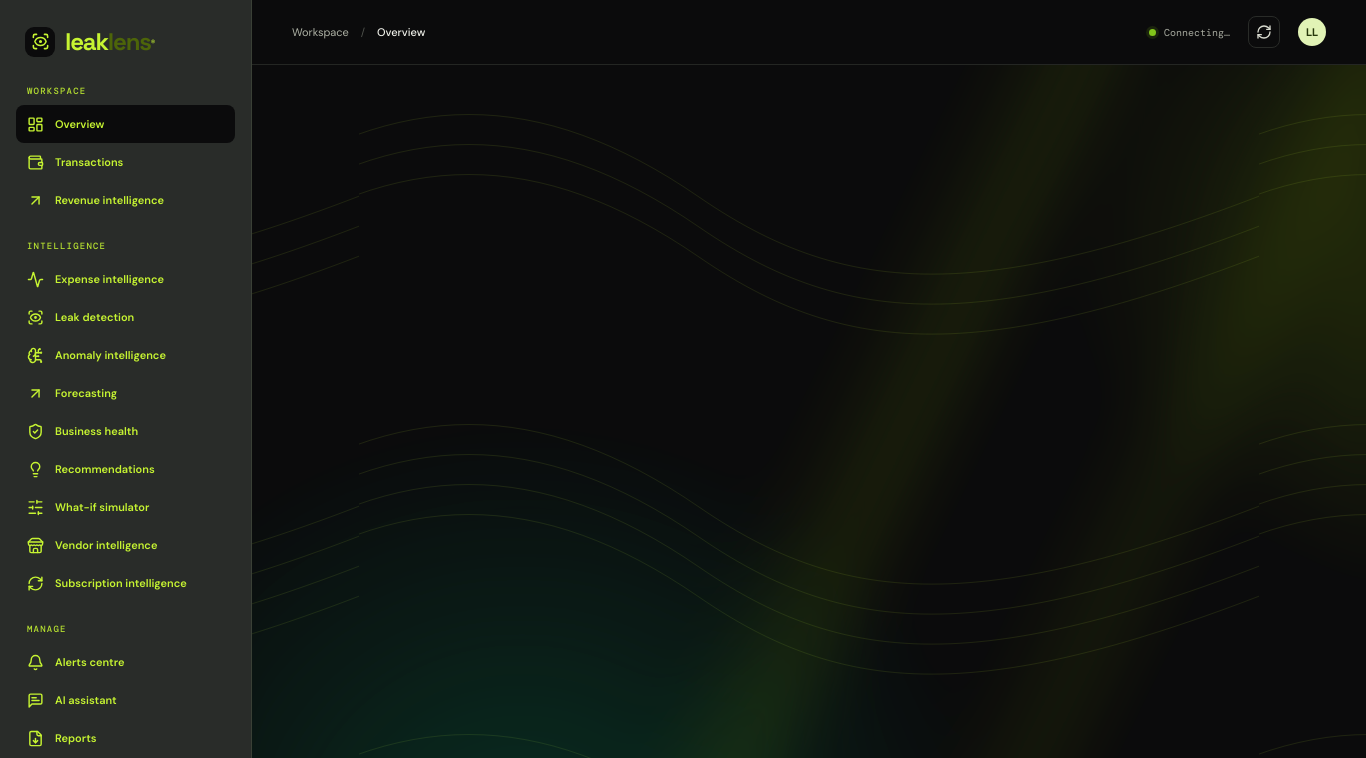
LeakLens workspace › navigates to transaction management and exposes search
The image size is (1366, 758).
Click the button "Transactions" at (126, 162), box [16,143,235,181]
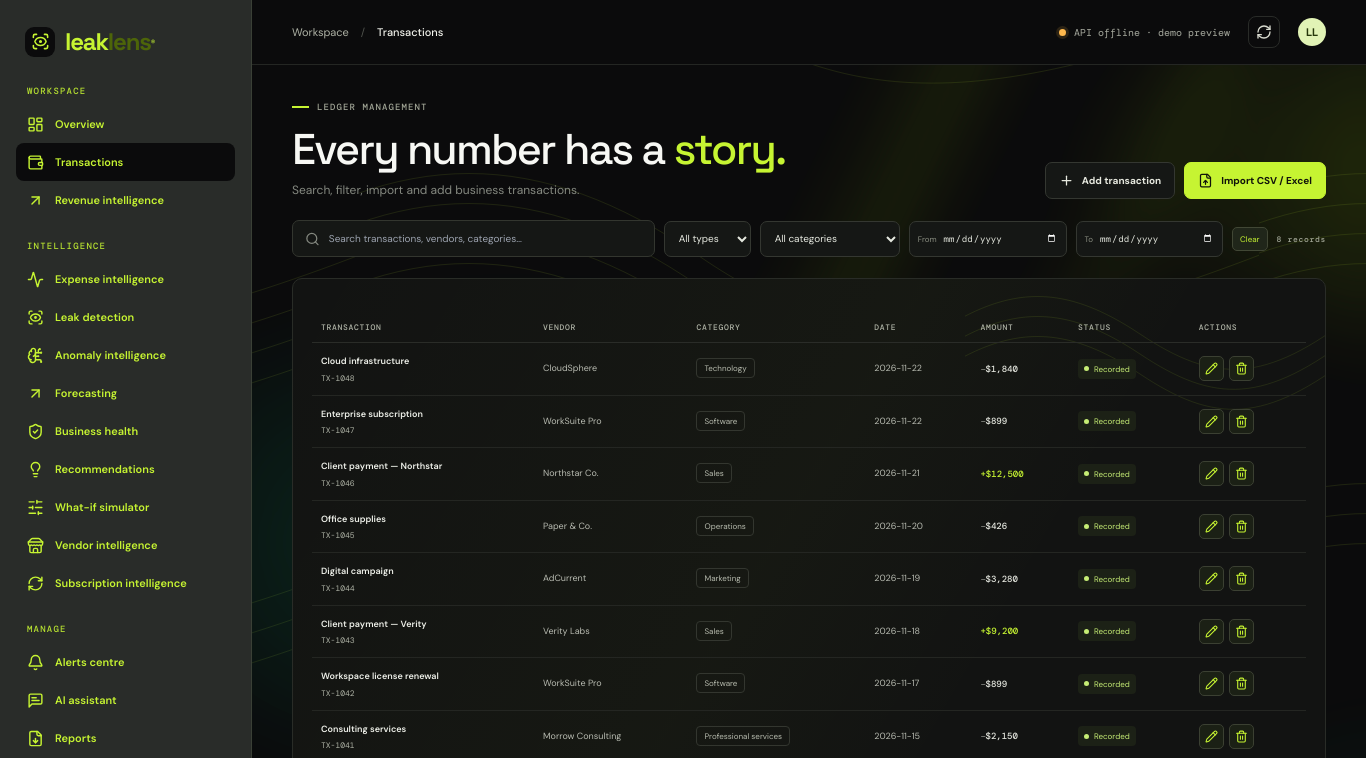
Expected: the field with placeholder "Search transactions, vendors, categories…" is shown, [329,231,642,246]
Expected: the text "LEDGER MANAGEMENT" is shown, [292,101,428,113]
